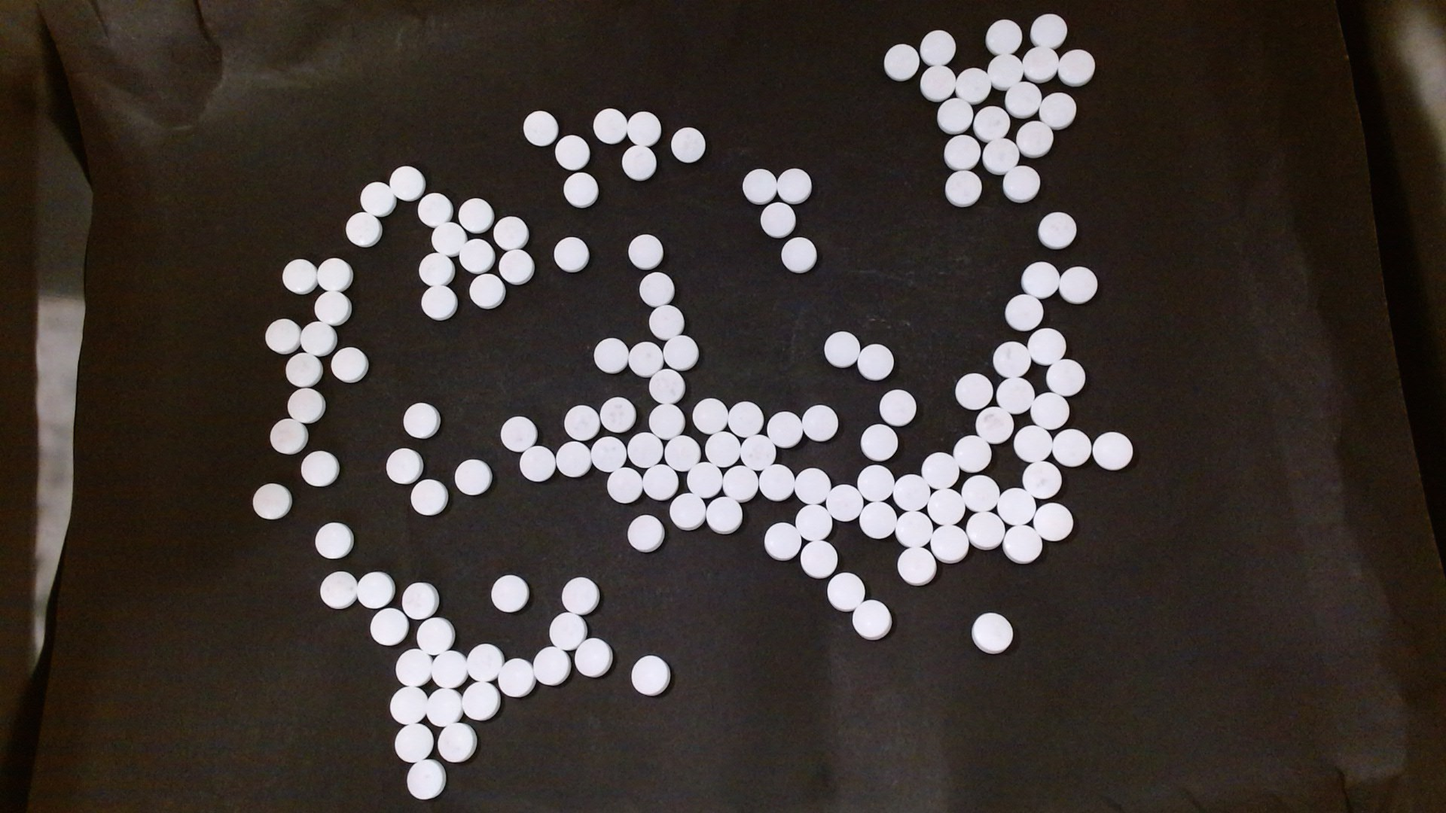Circle: (970, 611, 1014, 654), (851, 599, 892, 641), (630, 654, 671, 696), (1033, 501, 1075, 541), (1091, 431, 1133, 471), (393, 723, 433, 763), (897, 546, 937, 586), (1002, 525, 1042, 565), (406, 759, 446, 799), (1030, 390, 1069, 431), (1051, 428, 1092, 467), (355, 571, 395, 610), (314, 521, 354, 560), (490, 574, 529, 614), (319, 570, 359, 609), (437, 721, 476, 761), (1021, 459, 1061, 498), (952, 434, 992, 473), (929, 525, 969, 564), (995, 376, 1035, 415), (574, 637, 612, 678), (826, 572, 865, 611), (1058, 265, 1097, 304), (390, 685, 429, 724), (997, 487, 1036, 526), (920, 452, 959, 491), (600, 395, 639, 434), (1057, 47, 1095, 87), (429, 649, 467, 689), (1014, 424, 1054, 462), (251, 482, 291, 520), (961, 473, 999, 513), (740, 433, 778, 473), (589, 435, 627, 475), (533, 646, 570, 687), (453, 458, 492, 496), (300, 449, 339, 487), (1005, 293, 1044, 331), (370, 607, 408, 646), (416, 616, 454, 655), (560, 576, 599, 614), (549, 611, 587, 650), (394, 648, 432, 687), (668, 492, 706, 531), (966, 511, 1004, 550), (993, 340, 1032, 378), (928, 488, 966, 527), (892, 473, 930, 512), (972, 102, 1010, 141), (975, 405, 1014, 443), (1037, 211, 1076, 249), (497, 657, 534, 697), (1045, 358, 1085, 395), (462, 680, 499, 720), (801, 539, 838, 579), (857, 343, 895, 381), (879, 388, 917, 426), (466, 644, 504, 682), (981, 136, 1019, 174), (895, 510, 933, 548), (330, 346, 369, 383), (269, 418, 308, 455), (920, 63, 957, 102), (1021, 260, 1060, 297), (1002, 165, 1041, 202), (627, 513, 664, 552), (401, 581, 438, 619), (860, 423, 897, 461), (944, 169, 981, 207), (764, 522, 801, 560), (1016, 120, 1054, 157), (1039, 91, 1076, 129), (954, 65, 991, 103), (1028, 327, 1066, 364), (857, 464, 895, 501), (955, 373, 993, 410), (427, 687, 463, 726), (410, 479, 447, 516), (937, 96, 974, 133), (883, 43, 920, 80), (794, 467, 831, 504), (691, 397, 728, 434), (757, 464, 794, 501), (287, 387, 325, 423), (801, 403, 837, 441), (621, 144, 657, 181), (468, 273, 505, 309), (499, 248, 535, 285), (553, 236, 589, 273), (314, 289, 351, 325), (781, 236, 817, 273), (776, 166, 812, 203), (648, 303, 685, 339), (592, 337, 628, 374), (823, 330, 859, 367), (1022, 46, 1059, 82), (795, 503, 831, 540), (706, 496, 742, 533), (859, 501, 896, 537), (649, 402, 685, 439), (987, 52, 1022, 90), (985, 18, 1020, 56), (767, 410, 802, 448), (554, 134, 590, 170), (386, 448, 422, 484), (403, 402, 439, 438), (458, 197, 494, 233), (282, 258, 318, 294), (500, 416, 536, 452), (417, 191, 453, 227), (1004, 81, 1040, 117), (563, 404, 599, 440), (825, 485, 861, 521), (1030, 13, 1066, 49), (760, 201, 795, 238), (285, 352, 322, 387), (300, 320, 337, 355), (420, 285, 457, 320), (555, 440, 590, 477), (920, 29, 955, 66), (648, 368, 685, 403), (607, 467, 642, 504), (728, 400, 763, 437), (628, 233, 663, 269), (944, 134, 979, 170), (493, 216, 529, 251), (742, 168, 777, 204), (670, 126, 705, 162), (389, 164, 425, 199), (628, 340, 663, 376), (705, 431, 740, 467), (628, 431, 663, 467), (639, 272, 676, 306), (459, 238, 494, 273), (265, 318, 300, 353), (643, 464, 678, 499), (664, 435, 699, 470), (722, 466, 757, 501), (563, 172, 597, 208), (419, 252, 455, 286), (316, 257, 352, 291), (664, 334, 698, 370), (523, 109, 557, 145), (687, 461, 721, 497), (360, 181, 395, 215), (593, 107, 627, 142), (627, 110, 660, 146), (431, 221, 465, 255), (346, 212, 380, 246), (520, 446, 554, 480)
